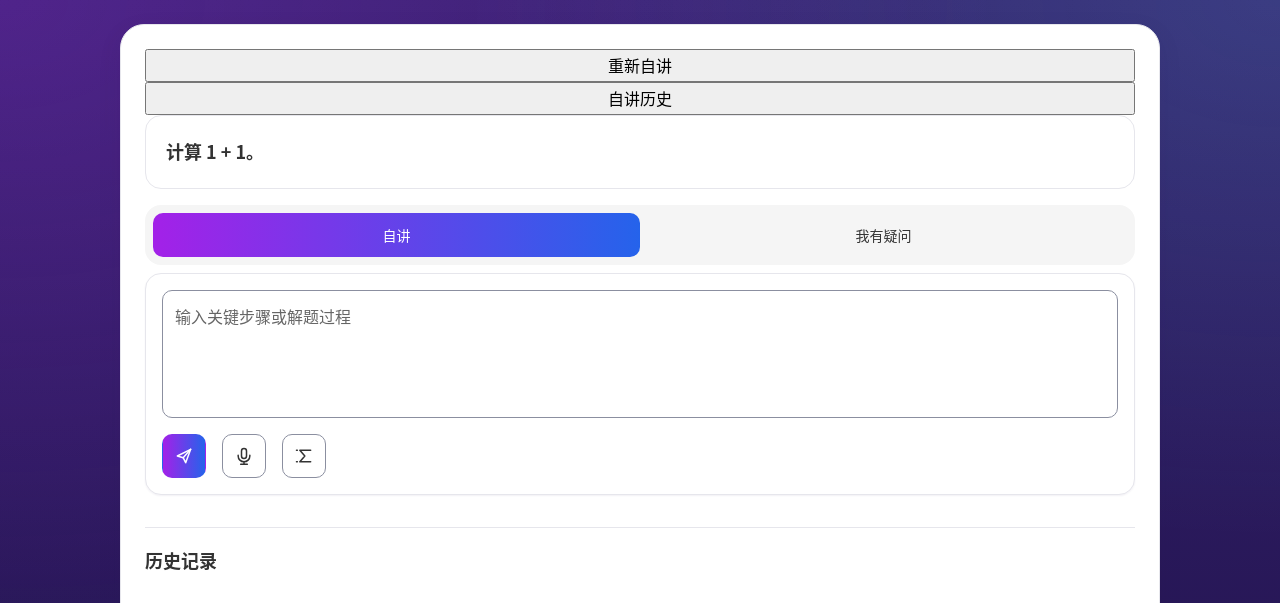
Scenario: SessionView › rejects submitting an empty explanation
Click the button with test id "submit-explanation".
click(184, 456)  # box [162,434,206,478]
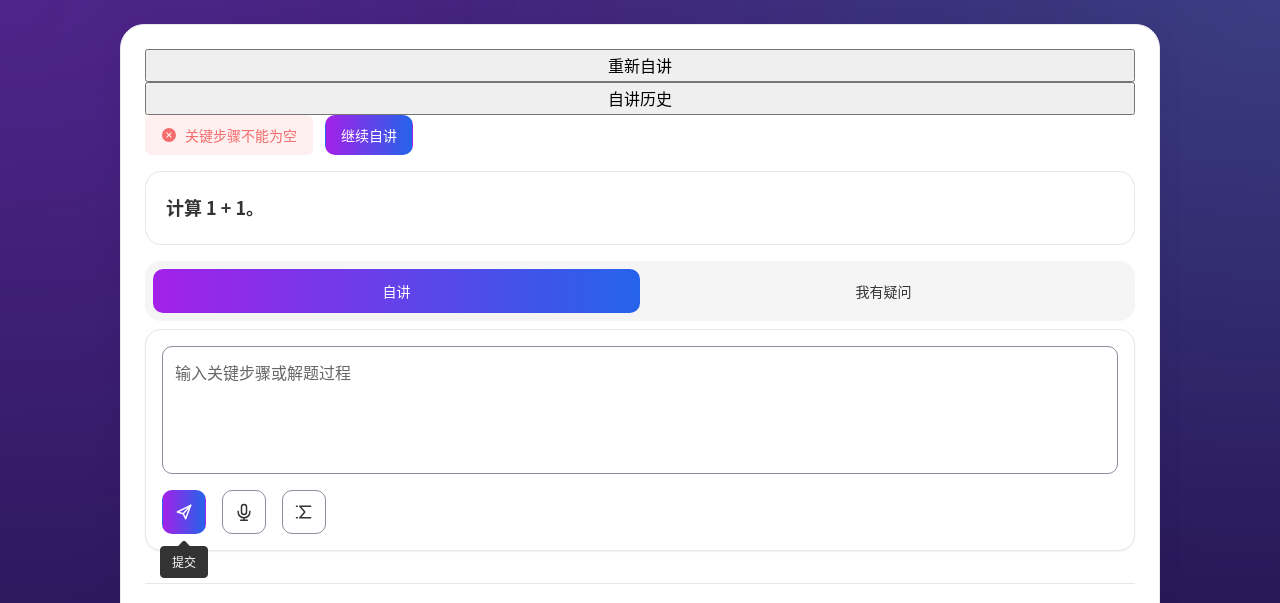
Expected: the text "关键步骤不能为空" is shown, [185,123,297,147]
